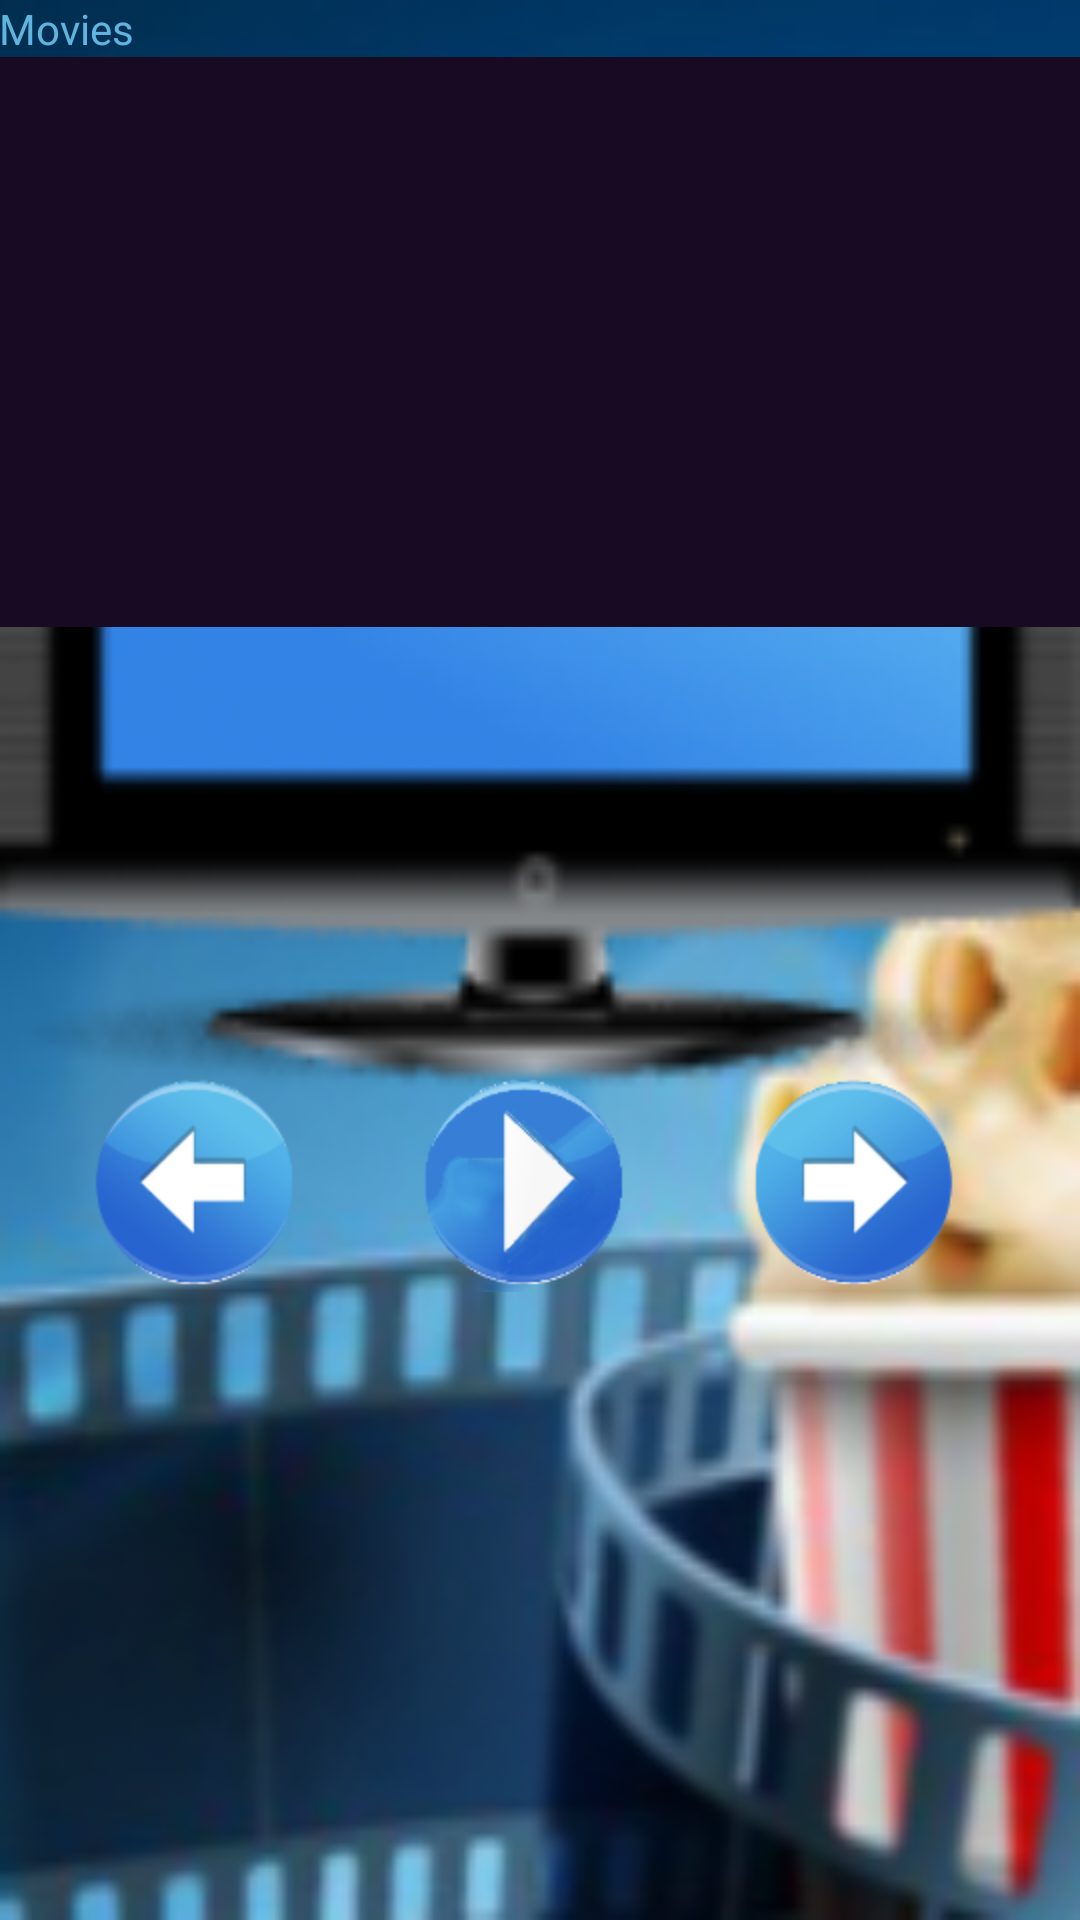

Icon click points for this 1080 x 1920 phone screenshot, format (x,y):
back: (194,1182)
next: (854,1182)
play: (524,1182)
